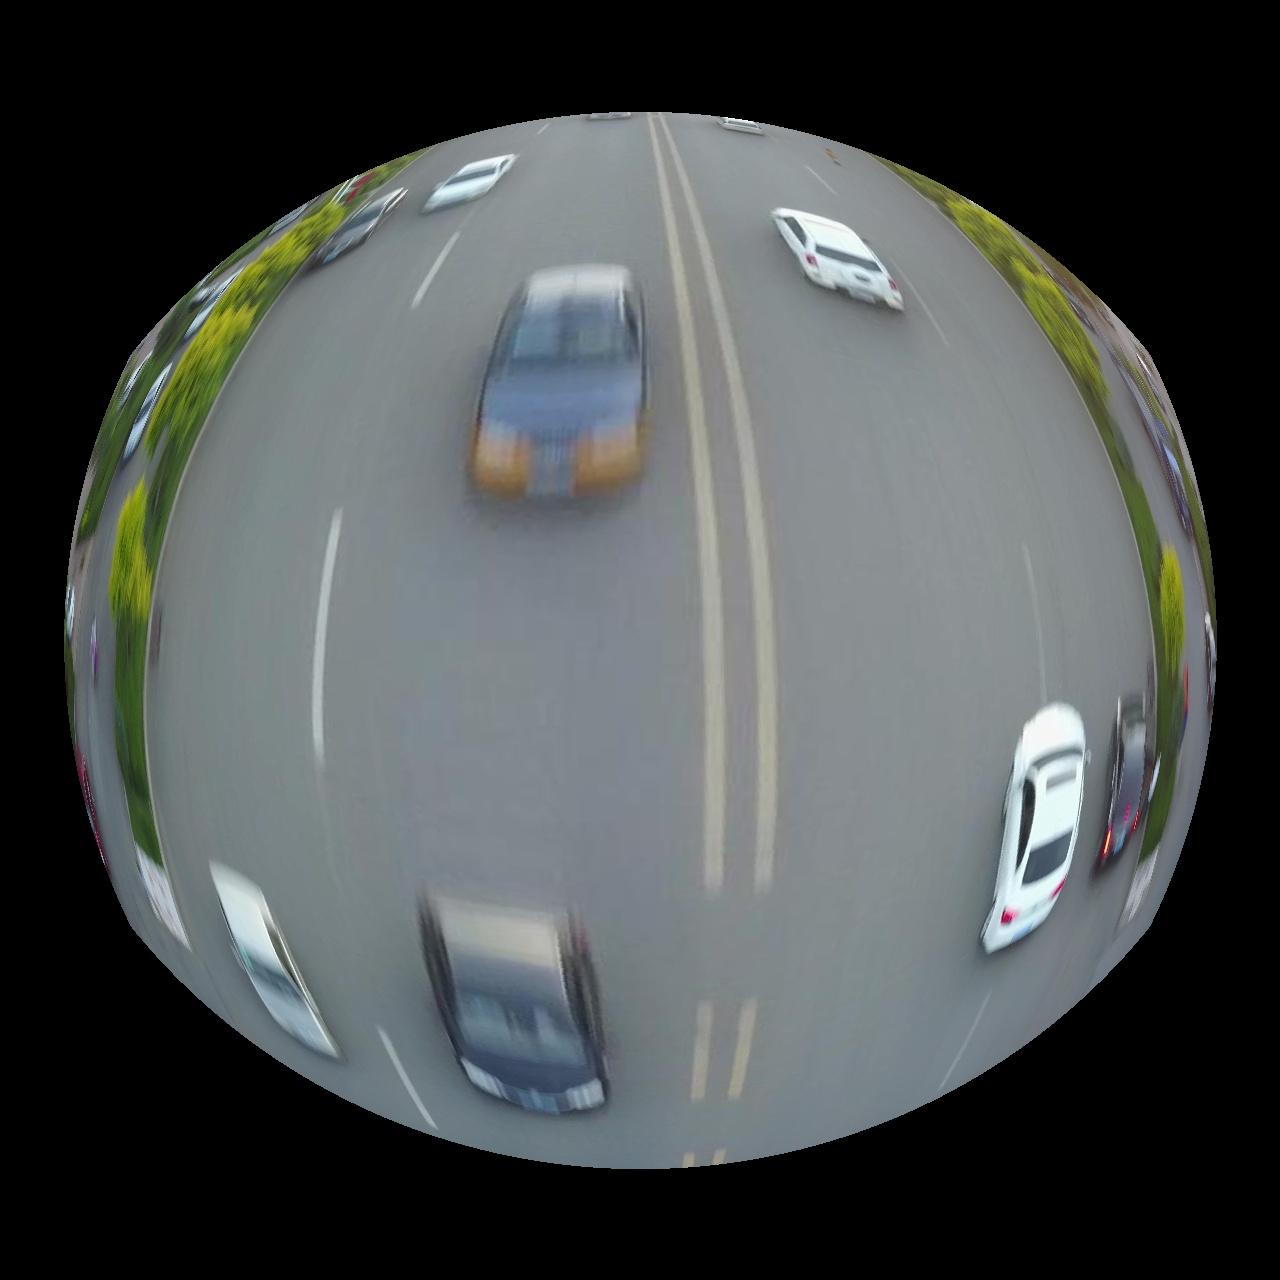cars: (420, 895, 608, 1116), (470, 264, 645, 498), (983, 705, 1087, 954), (210, 863, 340, 1060), (773, 207, 905, 308), (1102, 694, 1154, 866), (316, 187, 406, 264), (422, 154, 516, 212)
trees: (892, 164, 1189, 928), (108, 156, 412, 866)
